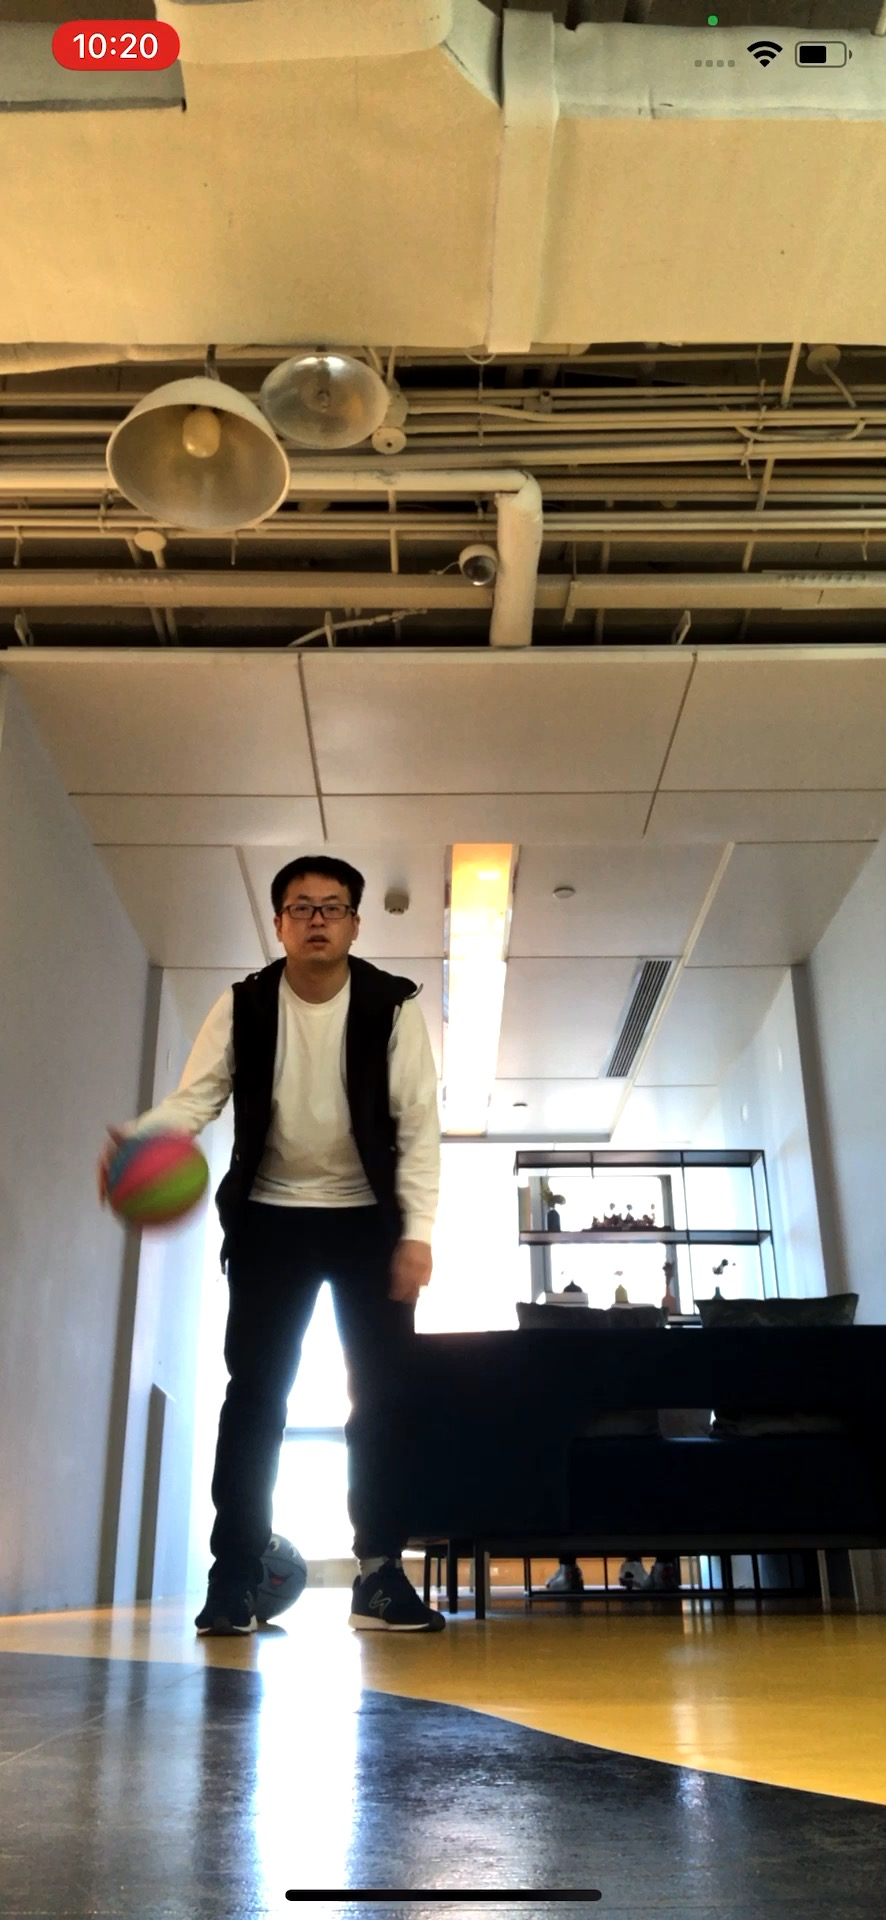ball: (100, 1127, 210, 1227)
